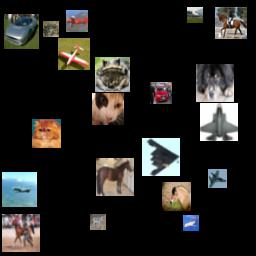airplane: (142, 138, 180, 176), (200, 103, 238, 141), (2, 172, 37, 207), (58, 38, 90, 70), (66, 10, 88, 32), (208, 169, 227, 188), (187, 7, 203, 23), (183, 215, 199, 231)
automobile: (4, 14, 39, 49), (150, 82, 172, 104)
cat: (92, 93, 124, 125), (32, 119, 61, 148)
dog: (196, 64, 234, 102)
frog: (95, 57, 130, 92), (90, 214, 106, 230), (43, 21, 59, 37)
